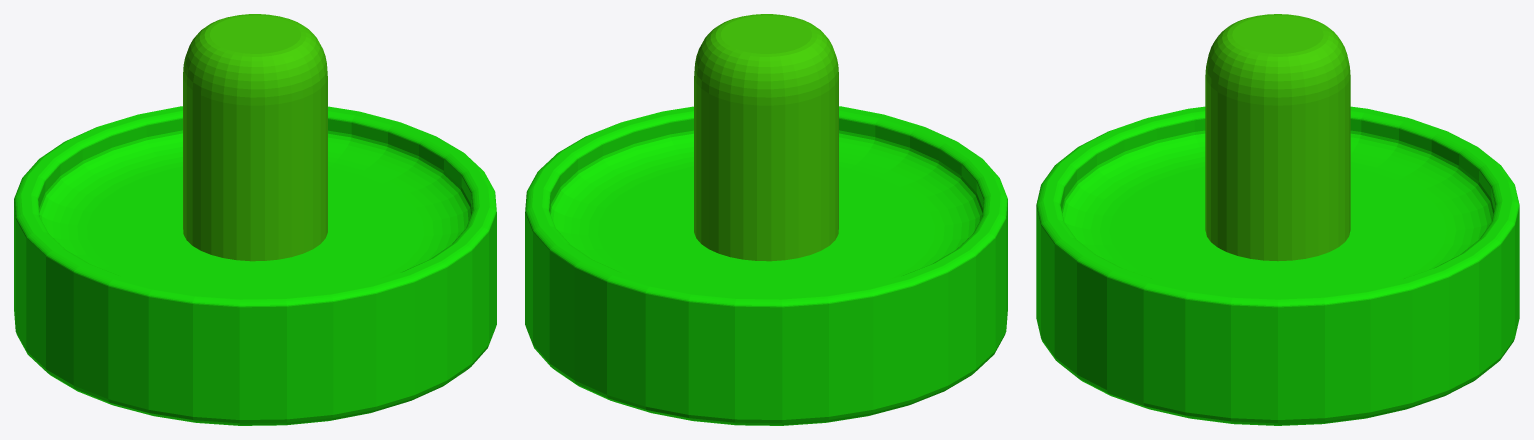
Rendered from Striker.fbx.
3 renders of one model, left to right at view 1: azimuth 30°, elevation 25°; view 2: azimuth 150°, elevation 25°; view 3: azimuth 270°, elevation 25°, orthographic.
Parts seen in each view (by area): view 1: Ground, Handle; view 2: Ground, Handle; view 3: Ground, Handle.
Boxes of the visible parts, x1,y1,x2,y2 form: Ground: (14, 106, 496, 425); Handle: (183, 14, 327, 261); Ground: (525, 106, 1007, 425); Handle: (694, 14, 838, 261); Ground: (1036, 106, 1519, 425); Handle: (1205, 14, 1350, 261).
Bounding box in the file's own units: 400 × 276 × 400.
